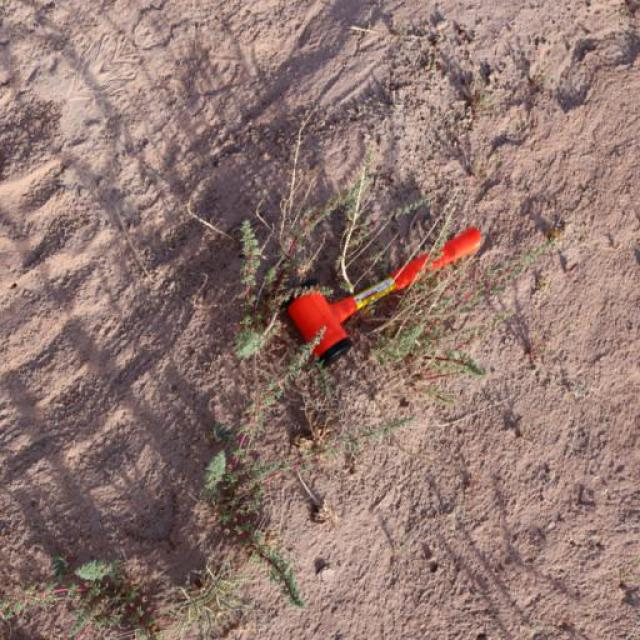mallet: (282, 224, 483, 368)
